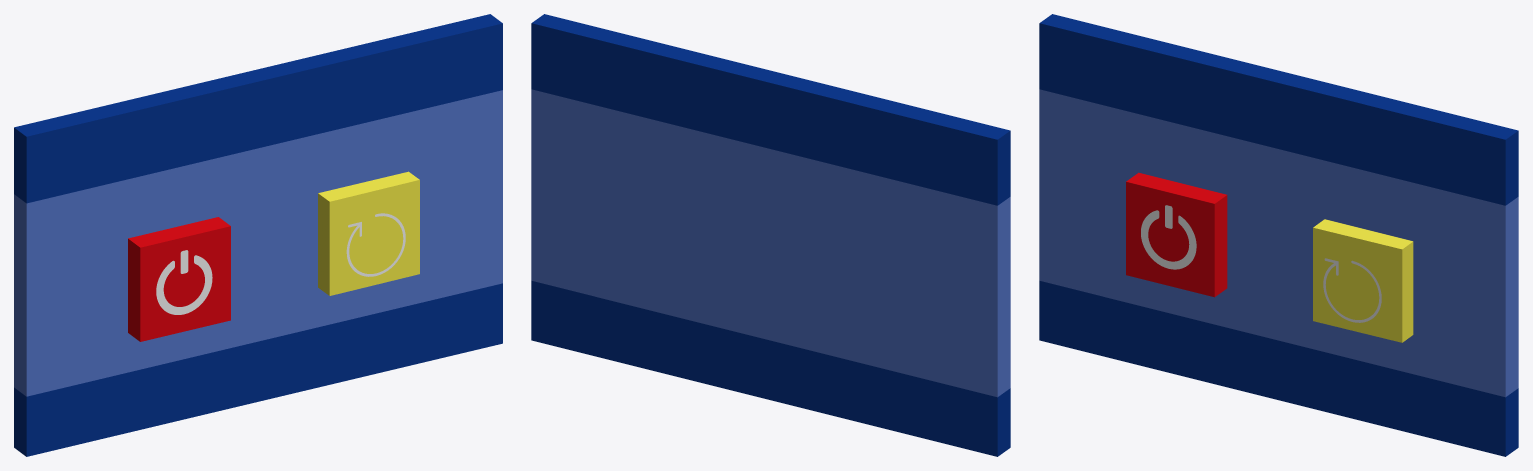
File: shutDownMenu.glb
3 views of the same model, side by side, from view 1: azimuth 30°, elevation 25°; view 2: azimuth 150°, elevation 25°; view 3: azimuth 330°, elevation 25° (orthographic).
Parts seen in each view (by area): view 1: Cube, Cube.001, Cube.002, resetButton, ShutDownButton, ShutDownButton.001, resetButton.001; view 2: Cube, Cube.001, Cube.002; view 3: Cube, Cube.001, Cube.002, resetButton, ShutDownButton, ShutDownButton.001, resetButton.001.
Part boxes in pixels (left/top/right/bottom): Cube: left=14, top=90, right=502, bottom=396; Cube.001: left=14, top=14, right=502, bottom=203; Cube.002: left=14, top=283, right=502, bottom=456; resetButton: left=318, top=171, right=419, bottom=295; ShutDownButton: left=128, top=217, right=230, bottom=341; ShutDownButton.001: left=156, top=250, right=212, bottom=314; resetButton.001: left=346, top=213, right=405, bottom=276; Cube: left=531, top=89, right=1010, bottom=397; Cube.001: left=531, top=14, right=1010, bottom=205; Cube.002: left=531, top=280, right=1010, bottom=456; Cube: left=1039, top=89, right=1518, bottom=397; Cube.001: left=1039, top=14, right=1518, bottom=205; Cube.002: left=1039, top=280, right=1518, bottom=456; resetButton: left=1313, top=219, right=1413, bottom=342; ShutDownButton: left=1126, top=172, right=1227, bottom=297; ShutDownButton.001: left=1141, top=205, right=1196, bottom=269; resetButton.001: left=1323, top=258, right=1381, bottom=322.
Size of the model in its own units: 0.6341 by 0.4095 by 0.0687.
